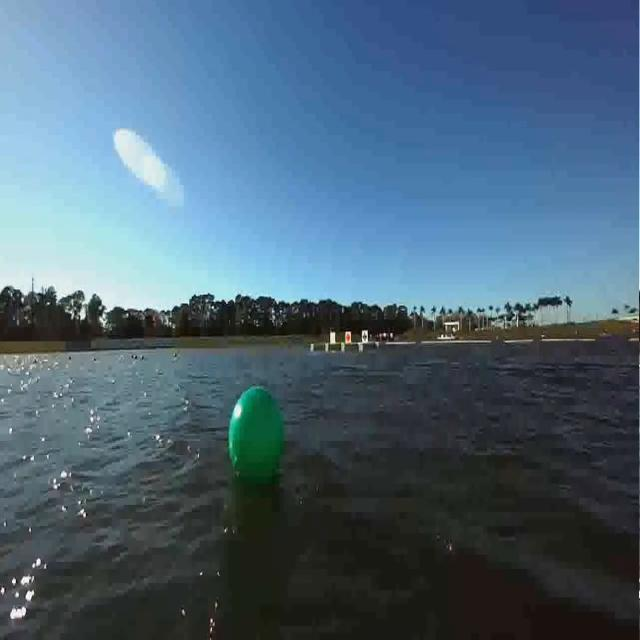green-buoy: (228, 383, 287, 488)
